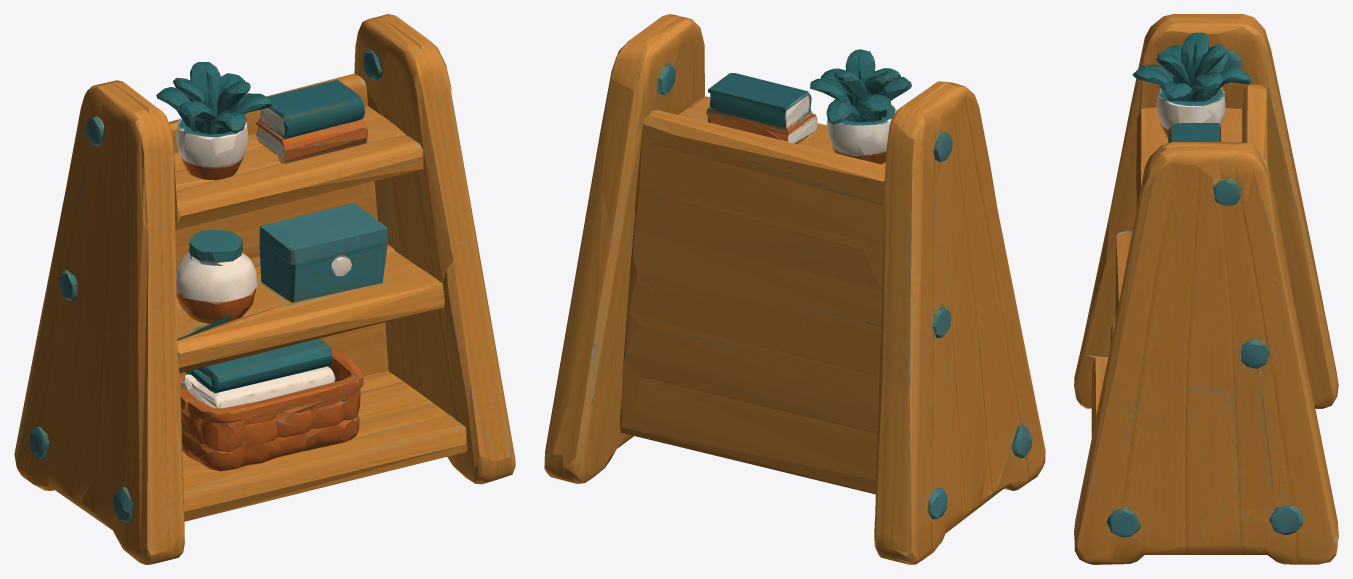
Rendered from wallShelf.glb.
The picture shows the model from 3 angles, left to right: view 1: azimuth 30°, elevation 25°; view 2: azimuth 150°, elevation 25°; view 3: azimuth 270°, elevation 25°; orthographic projection. The views are drawn at different scales.
Parts seen in each view (by area): view 1: Mesh_0; view 2: Mesh_0; view 3: Mesh_0.
Part boxes in pixels (x1,y1,x2,y2): Mesh_0: (14,14,515,564); Mesh_0: (544,14,1045,564); Mesh_0: (1074,14,1338,564).
Bounding box in the file's own units: 0.934 × 1 × 0.5893.
1 material, 1 textured.
